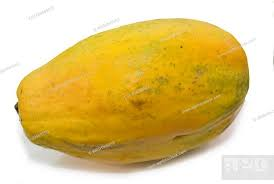papaya: (16, 18, 250, 161)
